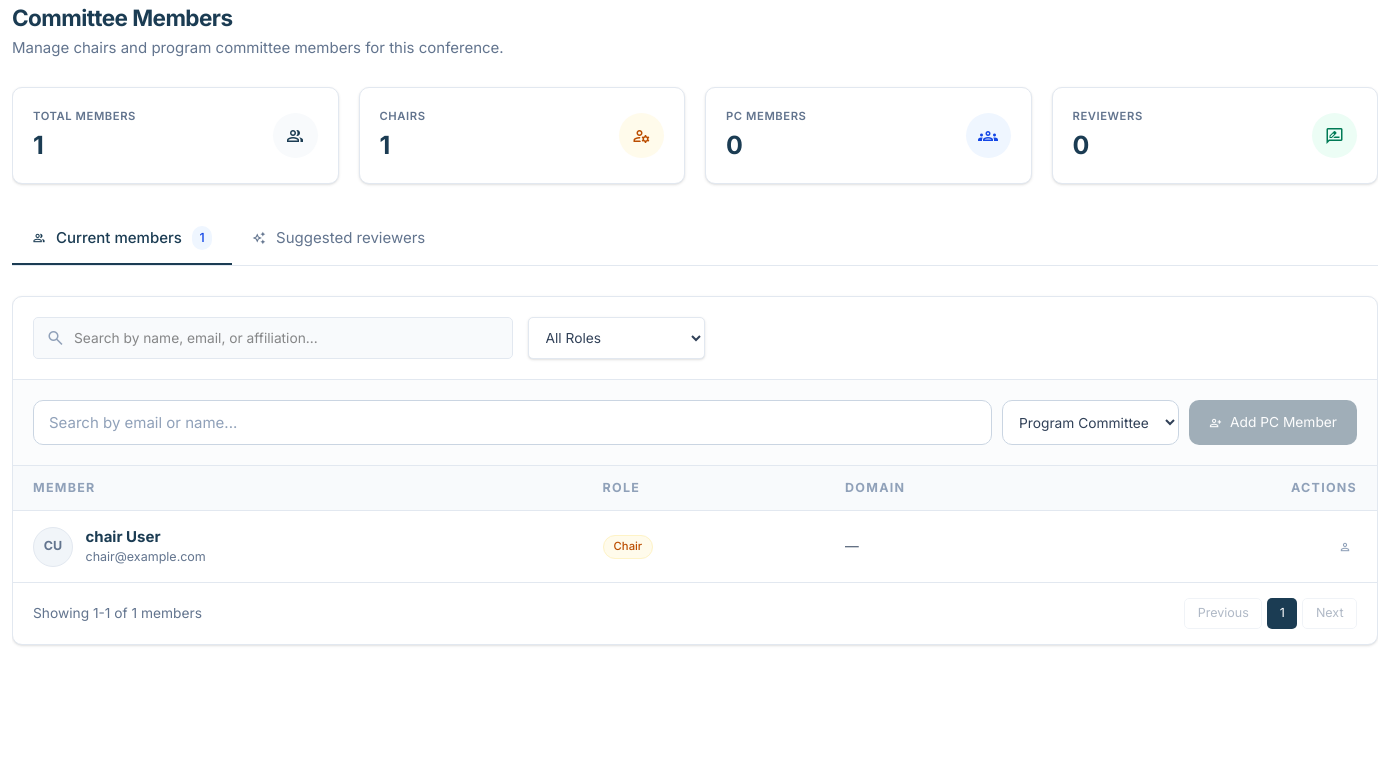
Test: ConferenceCommittee — Add Member search dropdown match evidence › preserves the order returned by the endpoint
The image size is (1378, 768).
Select "Reviewer" in the 2nd dropdown at (1090, 423), box [1002,400,1178,445]
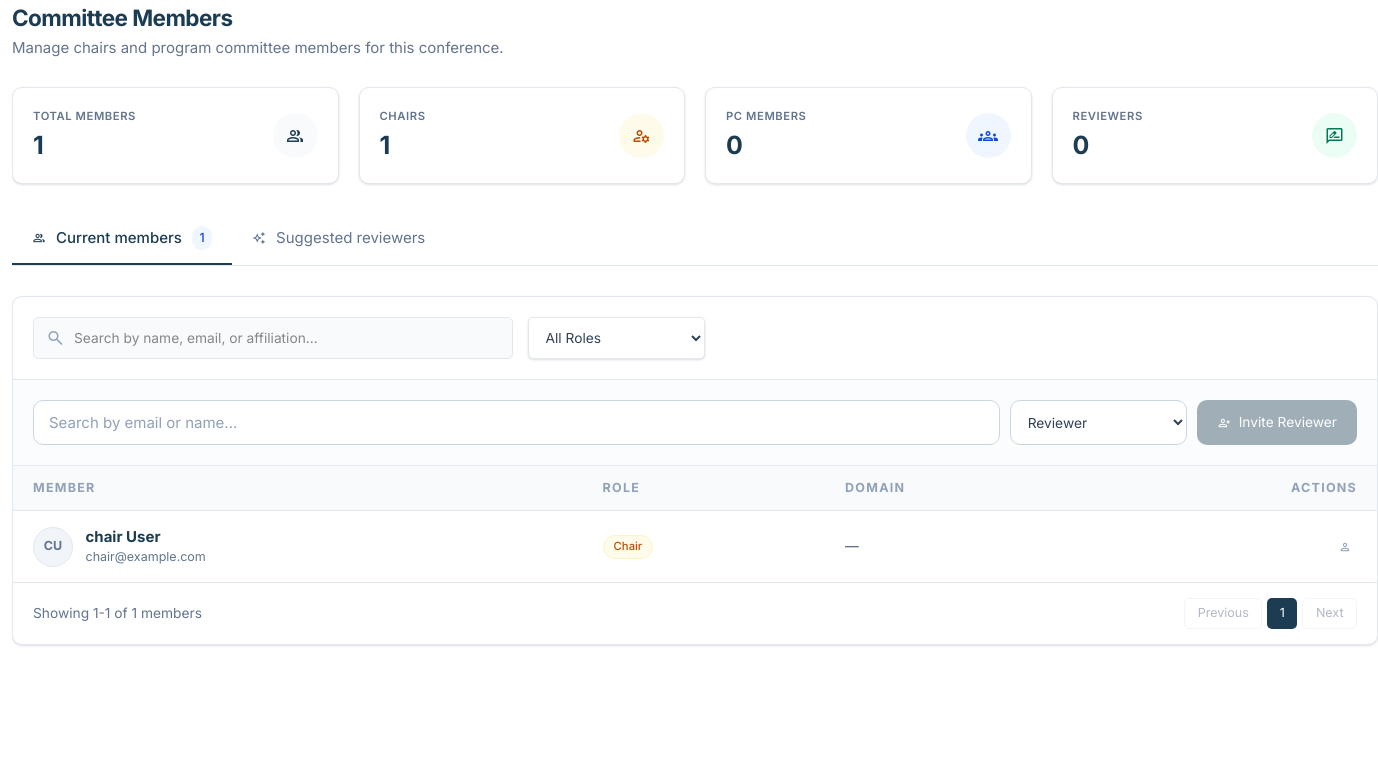
Type "@x.edu" into the field with placeholder "Search by email or name..." at (517, 423), box [33,400,1000,445]
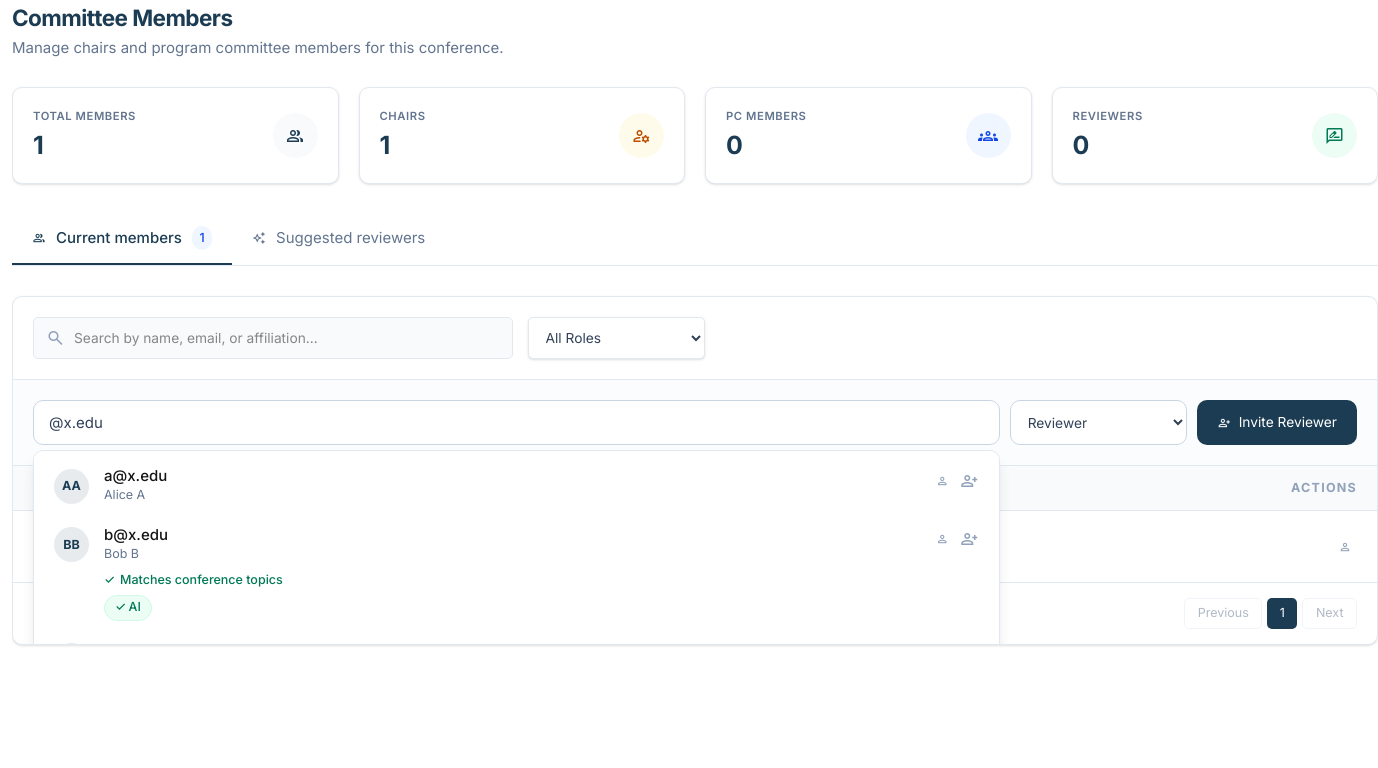
Check: the text "a@x.edu" is shown, box [104,466,167,485]
